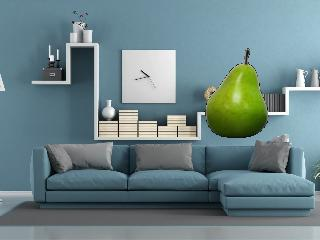pear: (206, 48, 268, 138)
